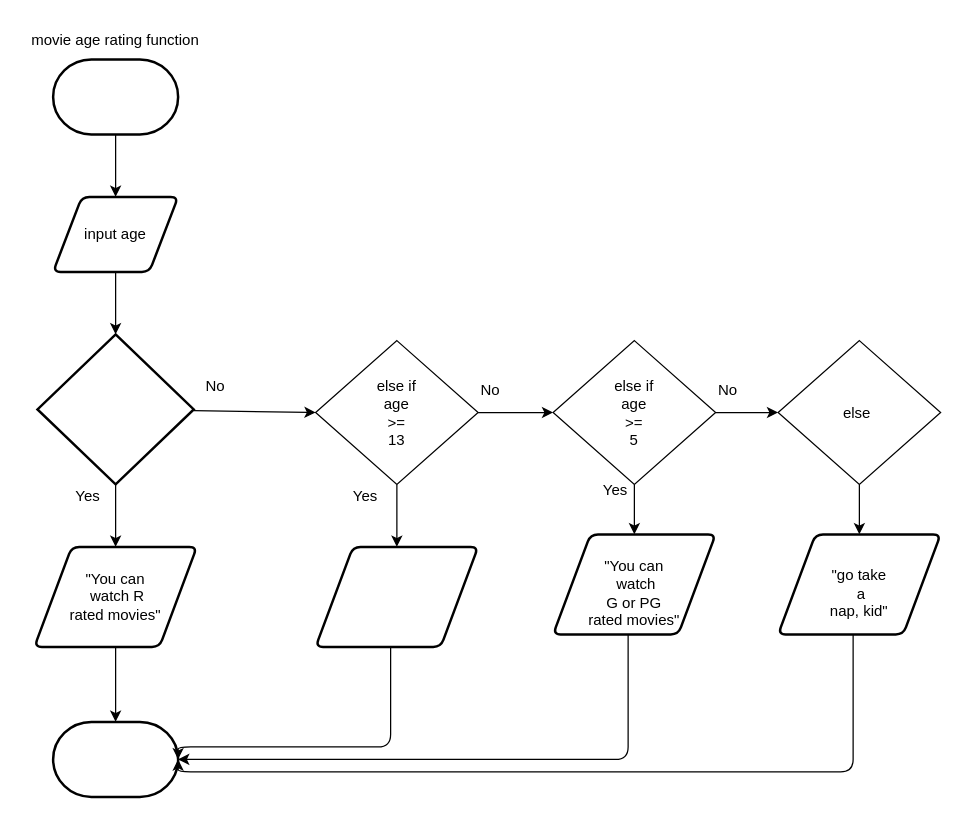
This 963x819 diagram has some shape labels left out. Each missing label, with the centre of its shape:
"You can watch PG-13 rated movies": point (396, 596)
if age >= 17: point (115, 408)
Start: point (115, 96)
Stop: point (115, 759)
